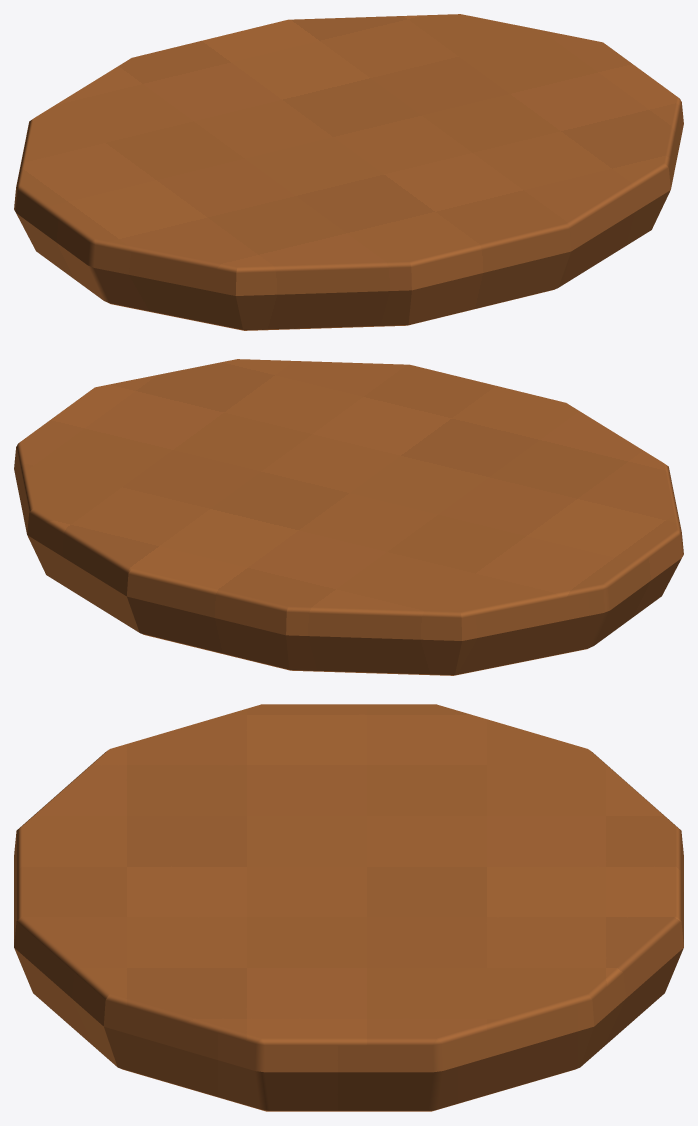
Rendered from Foot.glb.
3 views of the same model, one above another, from view 1: azimuth 30°, elevation 25°; view 2: azimuth 150°, elevation 25°; view 3: azimuth 270°, elevation 25° (orthographic). The views are drawn at different scales.
Parts seen in each view (by area): view 1: Foot; view 2: Foot; view 3: Foot.
Part boxes in pixels (<box>): Foot: <box>14,14,683,330</box>; Foot: <box>14,359,683,675</box>; Foot: <box>14,704,683,1111</box>.
Size of the model in its own units: 0.2627 by 0.03 by 0.2183.
Materials: 1 (1 with a texture image).
